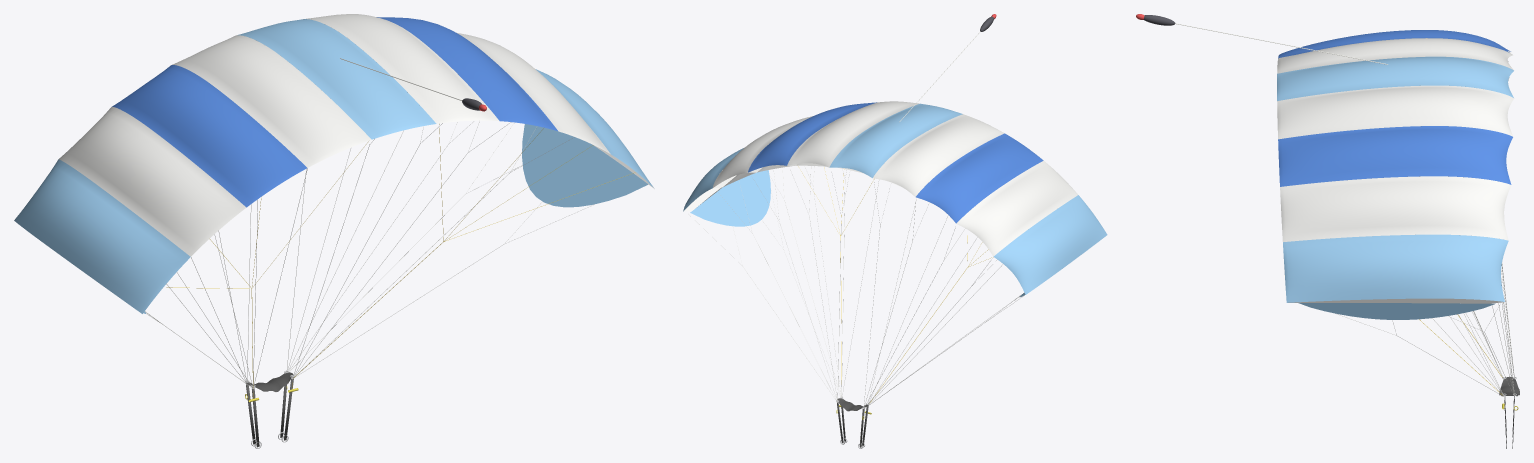
Rendered from PD_Pulse_150.glb.
The picture shows the model from 3 angles, left to right: view 1: azimuth 30°, elevation 25°; view 2: azimuth 150°, elevation 25°; view 3: azimuth 270°, elevation 25°; orthographic projection. The views are drawn at different scales.
Visible parts, largest first — view 1: TopSkin, Stabilizers, Lines, SteeringLines, Risers; view 2: TopSkin, Lines, Stabilizers, Risers; view 3: TopSkin, Stabilizers, Lines, Ribs, PilotChute.
Boxes of the visible parts, bbox=[...] form: TopSkin: bbox=[14, 14, 653, 313]; Stabilizers: bbox=[143, 124, 648, 313]; Lines: bbox=[145, 121, 594, 388]; SteeringLines: bbox=[166, 124, 635, 398]; Risers: bbox=[245, 372, 298, 448]; TopSkin: bbox=[683, 101, 1107, 294]; Lines: bbox=[688, 166, 1023, 408]; Stabilizers: bbox=[690, 170, 1025, 297]; Risers: bbox=[836, 402, 871, 448]; TopSkin: bbox=[1277, 30, 1514, 302]; Stabilizers: bbox=[1298, 303, 1495, 319]; Lines: bbox=[1337, 77, 1514, 396]; Ribs: bbox=[1288, 51, 1510, 303]; PilotChute: bbox=[1136, 14, 1387, 64].
Bounding box in the file's own units: 5.2 × 4.58 × 3.71.
